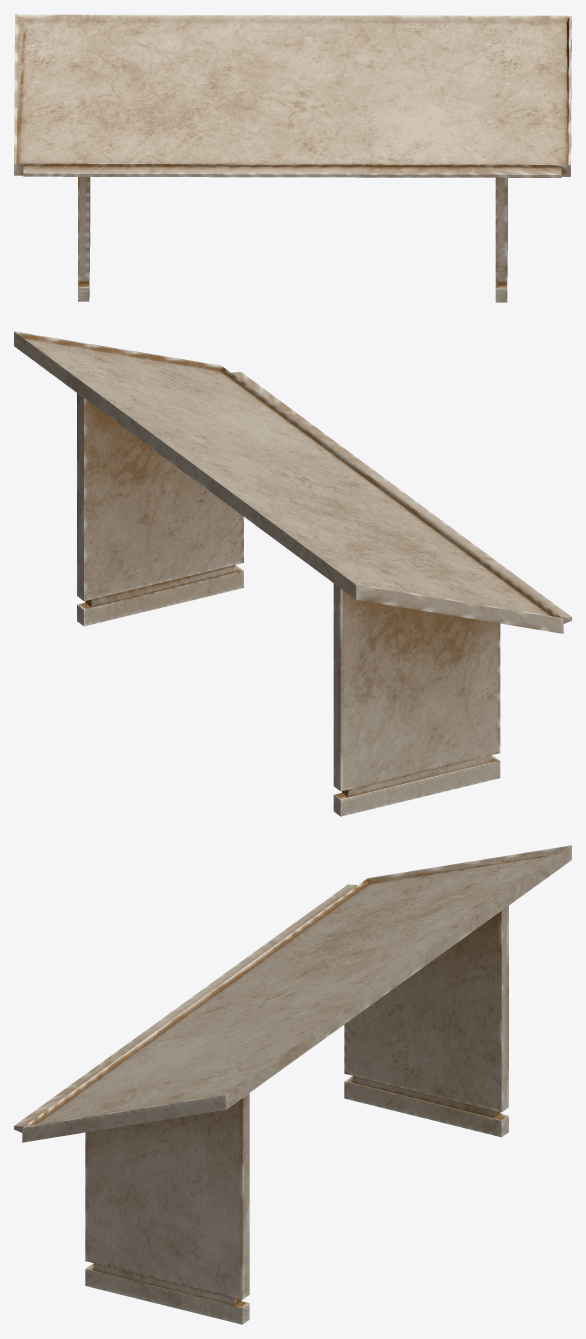
Rendered from atrium_Podium.fbx.
3 views of the same model, one above another, from view 1: azimuth 30°, elevation 25°; view 2: azimuth 150°, elevation 25°; view 3: azimuth 270°, elevation 25° (orthographic). The views are drawn at different scales.
Visible parts, largest first — view 1: GalleryStand; view 2: GalleryStand; view 3: GalleryStand.
Part boxes in pixels (x1,y1,x2,y2): GalleryStand: (14,14,571,302); GalleryStand: (14,331,571,816); GalleryStand: (14,845,571,1324).
Bounding box in the file's own units: 545 × 224 × 428.
1 material, 1 textured.
